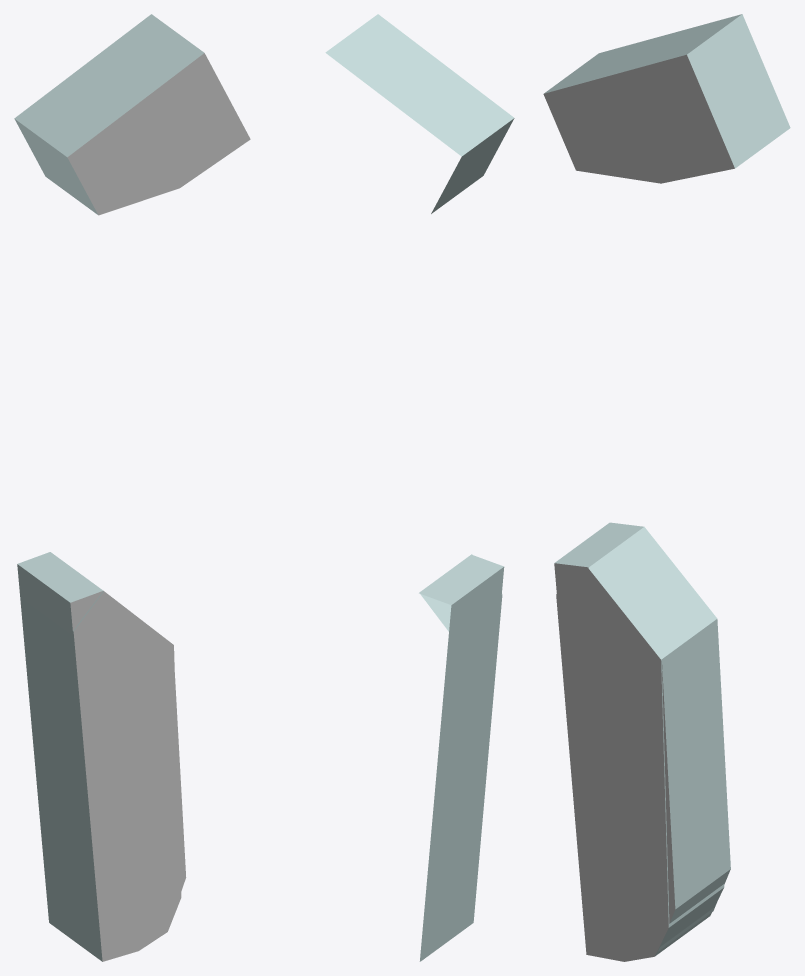
The picture shows the model from 3 angles, left to right: view 1: azimuth 30°, elevation 25°; view 2: azimuth 150°, elevation 25°; view 3: azimuth 330°, elevation 25°; orthographic projection. The views are drawn at different scales.
Parts seen in each view (by area): view 1: 0_2_3_2_3_1_0_3_3; view 2: 0_2_3_2_3_1_0_3_3; view 3: 0_2_3_2_3_1_0_3_3.
Part boxes in pixels (x1=…): 0_2_3_2_3_1_0_3_3: x1=14, y1=14, x2=250, y2=961; 0_2_3_2_3_1_0_3_3: x1=325, y1=14, x2=514, y2=961; 0_2_3_2_3_1_0_3_3: x1=543, y1=14, x2=790, y2=961.
Size of the model in its own units: 5.98 by 27.64 by 3.21.
